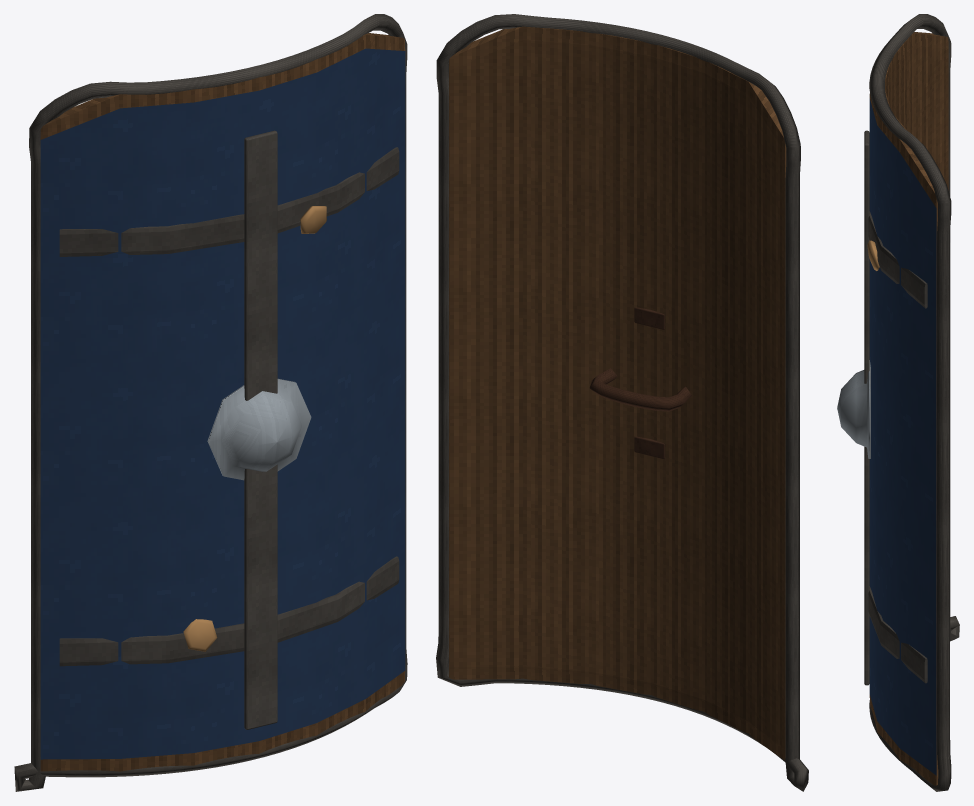
The model's file is tower-shield.lod2.glb.
The picture shows the model from 3 angles, left to right: view 1: azimuth 30°, elevation 25°; view 2: azimuth 150°, elevation 25°; view 3: azimuth 270°, elevation 25°; orthographic projection. The views are drawn at different scales.
Parts seen in each view (by area): view 1: ceramic / ceramic composite panel, iron / hammer-scaled wrought iron, wood / oiled hardwood, steel / forged blade steel, peened pin; view 2: wood / oiled hardwood, iron / hammer-scaled wrought iron, leather / oiled leather wrap; view 3: ceramic / ceramic composite panel, iron / hammer-scaled wrought iron, wood / oiled hardwood, steel / forged blade steel, peened pin.
Boxes of the visible parts, box(x1,y1,x2,y2) form: ceramic / ceramic composite panel: box(40, 48, 405, 759); iron / hammer-scaled wrought iron: box(14, 14, 407, 791); wood / oiled hardwood: box(40, 33, 405, 771); steel / forged blade steel: box(207, 378, 311, 480); peened pin: box(183, 206, 326, 651); wood / oiled hardwood: box(449, 26, 786, 760); iron / hammer-scaled wrought iron: box(436, 14, 808, 791); leather / oiled leather wrap: box(589, 307, 691, 459); ceramic / ceramic composite panel: box(869, 98, 936, 775); iron / hammer-scaled wrought iron: box(864, 14, 959, 791); wood / oiled hardwood: box(869, 32, 948, 787); steel / forged blade steel: box(837, 360, 870, 458); peened pin: box(867, 240, 879, 270).
Bounding box in the file's own units: 0.6018 × 1.06 × 0.181.
Materials: 6 (5 with a texture image).
